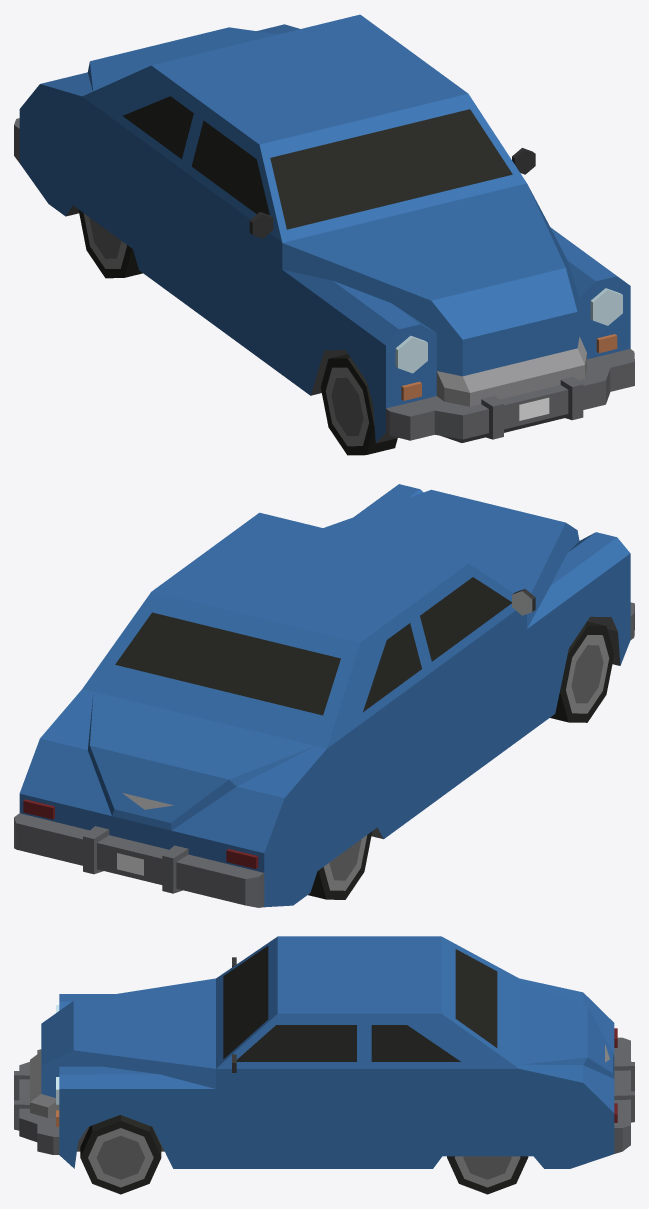
Rendered from Veh_Retro_Car_01_Blue.glb.
3 renders of one model, top to bottom at view 1: azimuth 30°, elevation 25°; view 2: azimuth 150°, elevation 25°; view 3: azimuth 270°, elevation 25°, orthographic. The views are drawn at different scales.
Visible parts, largest first — view 1: Retro_Car_01_Blue, Wheel_FR, Wheel_RR; view 2: Retro_Car_01_Blue, Wheel_FR, Wheel_RR; view 3: Retro_Car_01_Blue, Wheel_FL, Wheel_RL.
Boxes of the visible parts, x1,y1,x2,y2 form: Retro_Car_01_Blue: (14,14,634,443); Wheel_FR: (320,354,397,455); Wheel_RR: (78,210,142,278); Retro_Car_01_Blue: (14,484,634,907); Wheel_FR: (550,621,614,722); Wheel_RR: (308,831,372,899); Retro_Car_01_Blue: (14,936,634,1168); Wheel_FL: (80,1115,161,1194); Wheel_RL: (447,1156,528,1194).
Size of the model in its own units: 1.1 by 0.863 by 2.77.
1 material, 1 textured.
